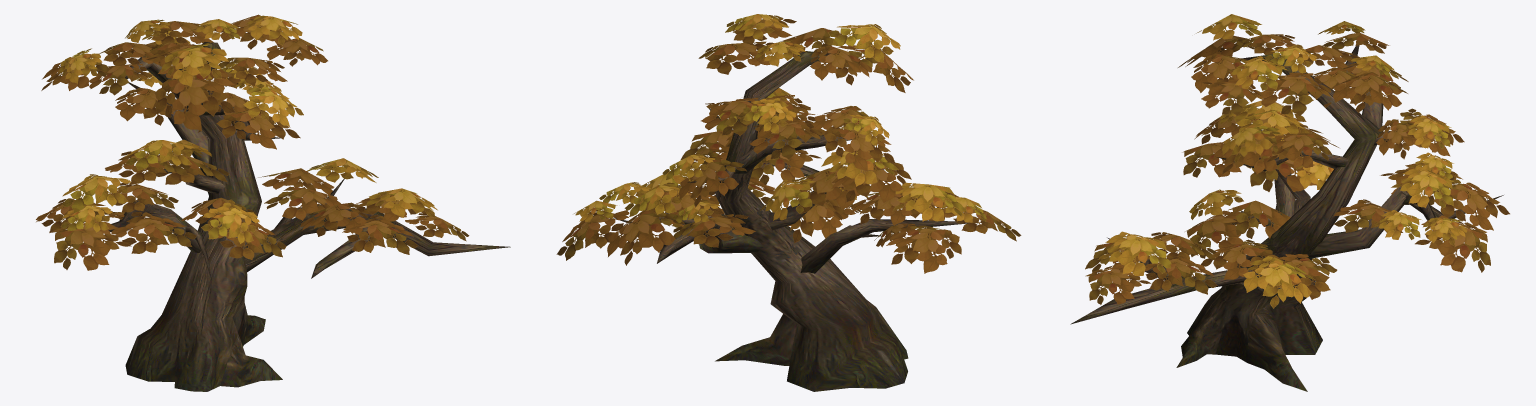
3 renders of one model, left to right at view 1: azimuth 30°, elevation 25°; view 2: azimuth 150°, elevation 25°; view 3: azimuth 270°, elevation 25°, orthographic. The views are drawn at different scales.
Visible parts, largest first — view 1: MS0002_11_03_2_01, MS0002_11_03_1_01; view 2: MS0002_11_03_2_01, MS0002_11_03_1_01; view 3: MS0002_11_03_2_01, MS0002_11_03_1_01.
Boxes of the visible parts, x1=… form: MS0002_11_03_2_01: x1=36, y1=14, x2=469, y2=270; MS0002_11_03_1_01: x1=97, y1=42, x2=510, y2=391; MS0002_11_03_2_01: x1=556, y1=14, x2=1021, y2=273; MS0002_11_03_1_01: x1=613, y1=51, x2=969, y2=391; MS0002_11_03_2_01: x1=1085, y1=14, x2=1509, y2=308; MS0002_11_03_1_01: x1=1070, y1=45, x2=1503, y2=391.
Bounding box in the file's own units: 10.81 × 8.75 × 11.23.
